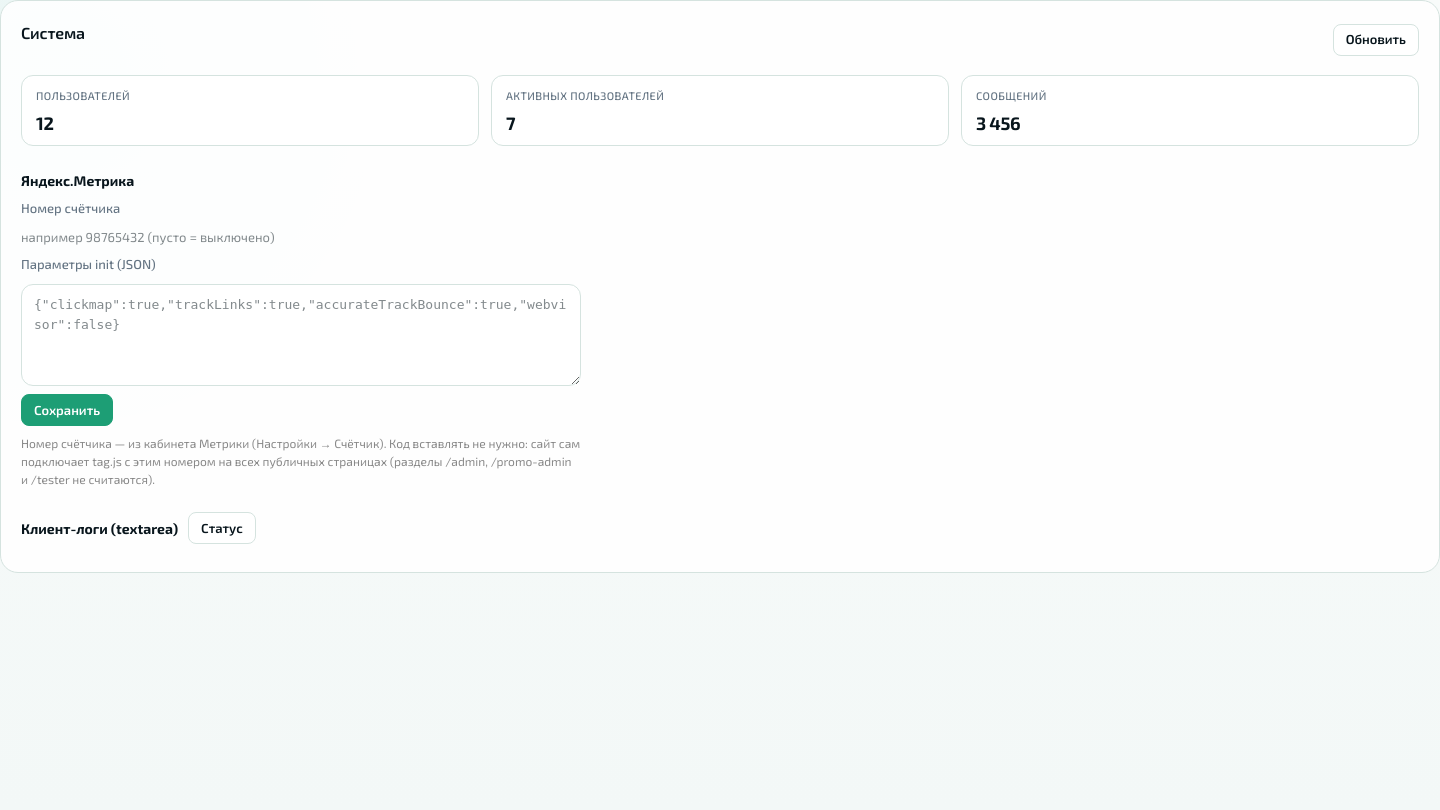
Test: AdminSystemTab Яндекс.Метрика › saves edited counter id via POST
Type "11112222" into the field with placeholder "например 98765432 (пусто = выключено)" at (301, 237), box left=21, top=228, right=581, bottom=247
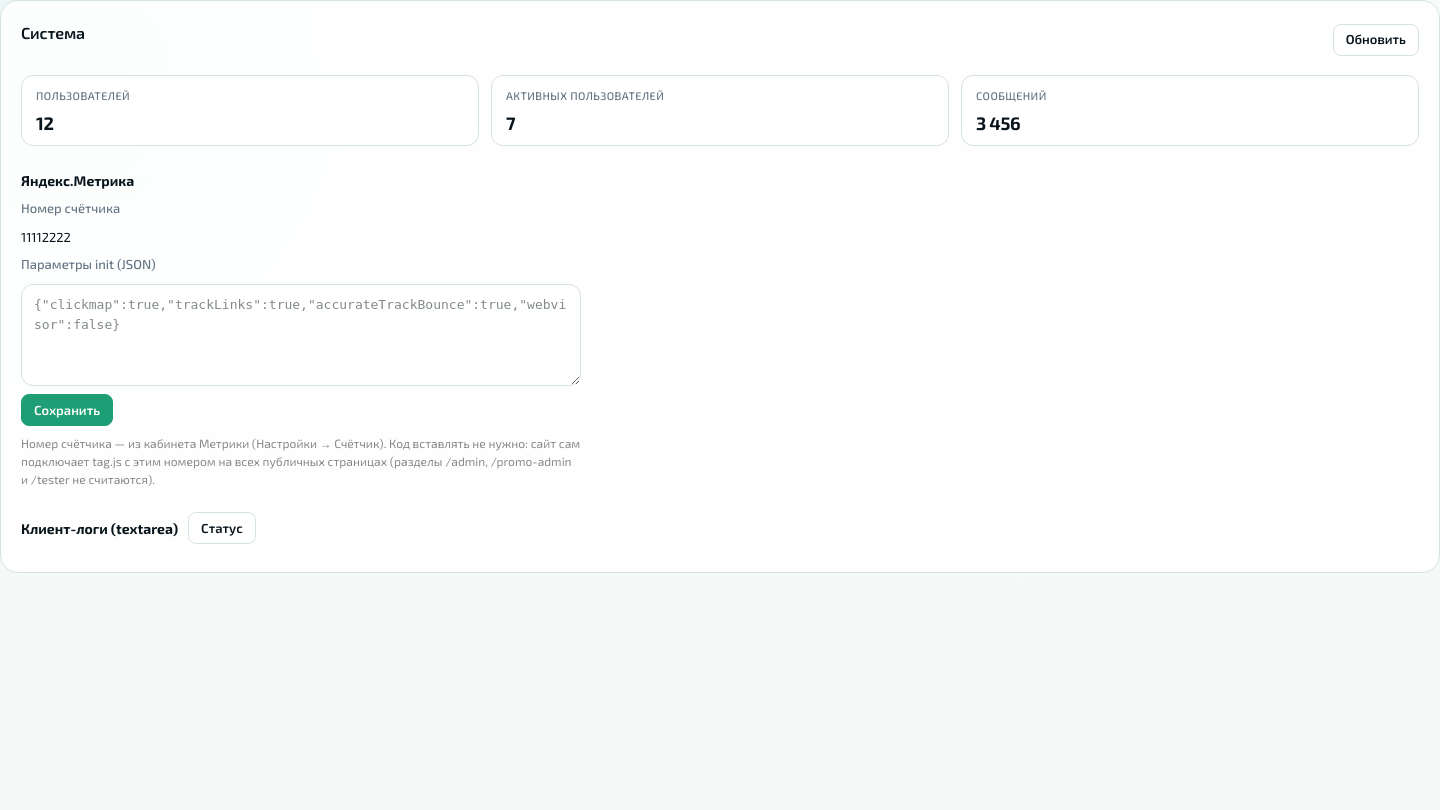
Click the button "Сохранить" at (67, 410), box left=21, top=394, right=113, bottom=426
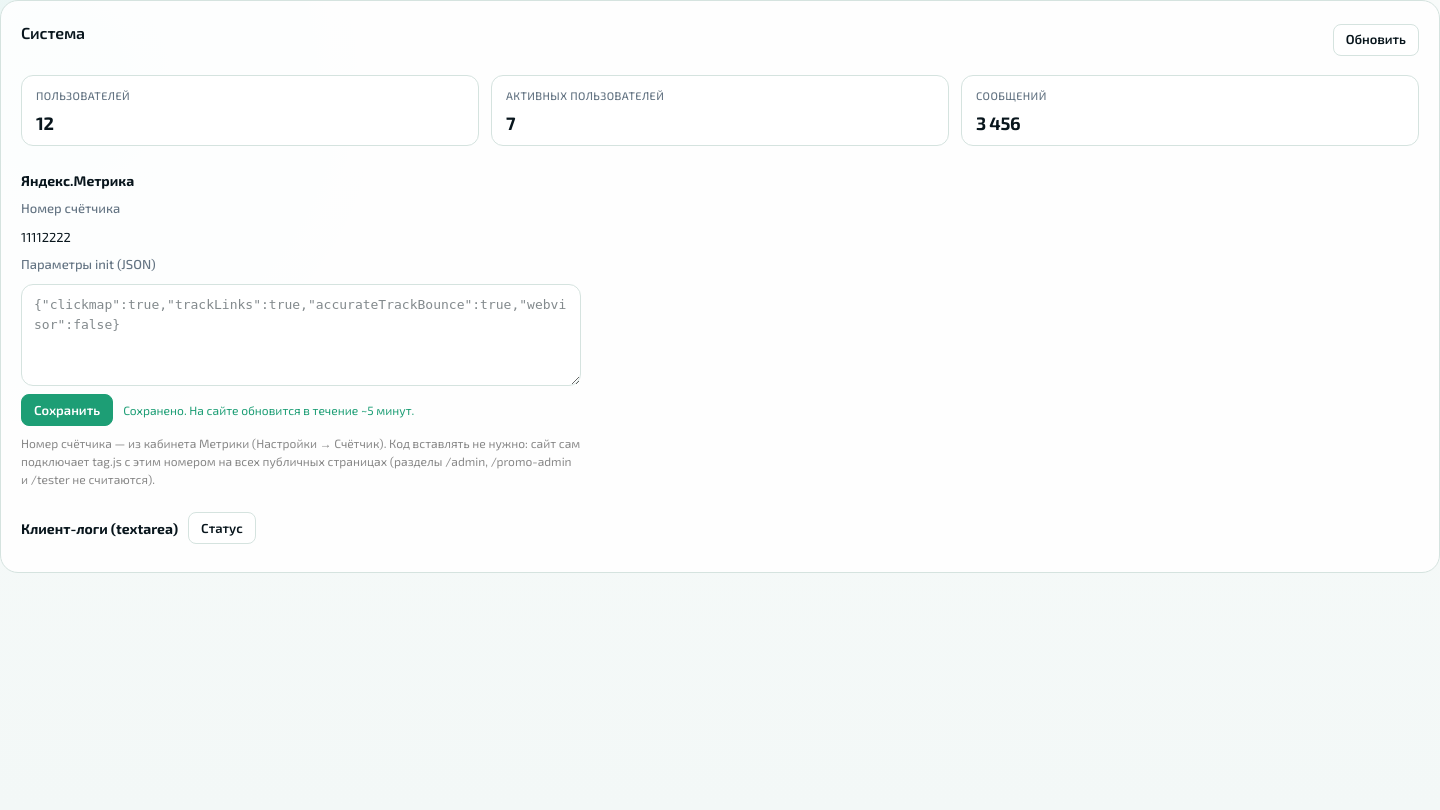
Expected: the text "Сохранено. На сайте обновится в течение ~5 минут." is shown, left=123, top=401, right=414, bottom=419
